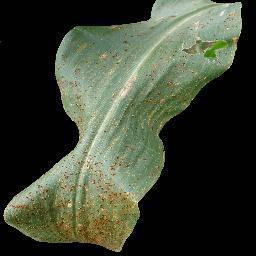Corn_Common_Rust: (49, 0, 247, 66), (59, 112, 178, 184), (53, 66, 230, 112), (58, 184, 153, 254), (4, 164, 58, 245)
